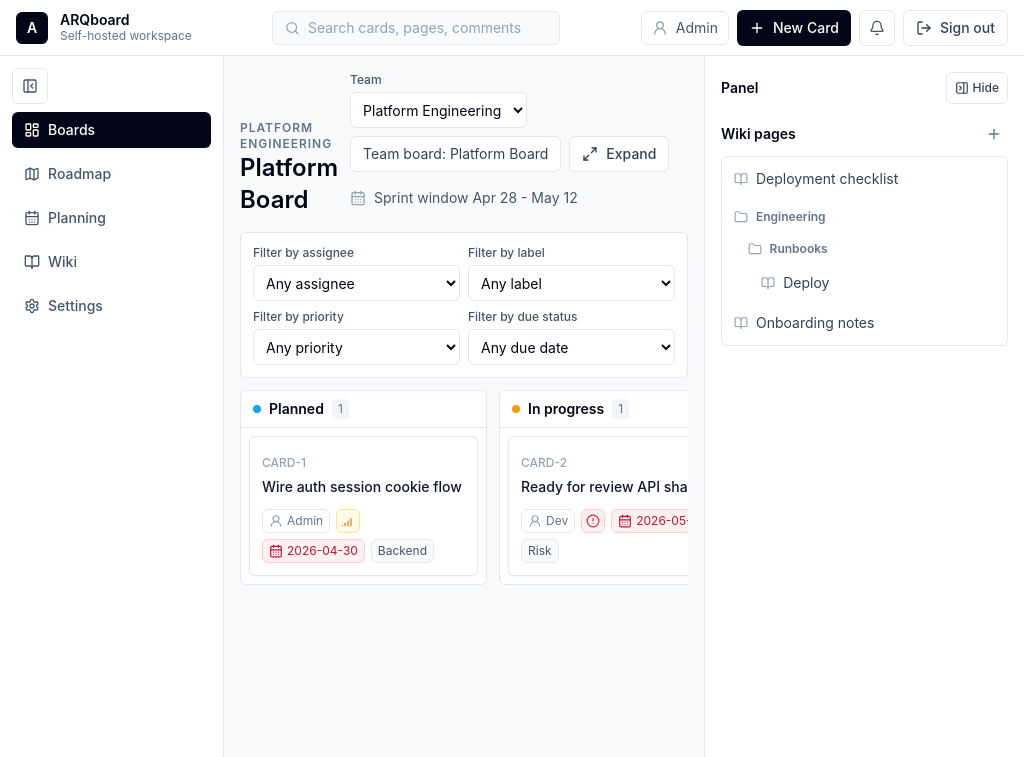
Scenario: App › updates the card detail panel when a card is selected
What coordinates should you click on to do the following:
click the button with aria-label "view card wire auth session cookie flow"
I would click on:
 (364, 506)
Its box is [250,437,477,575].
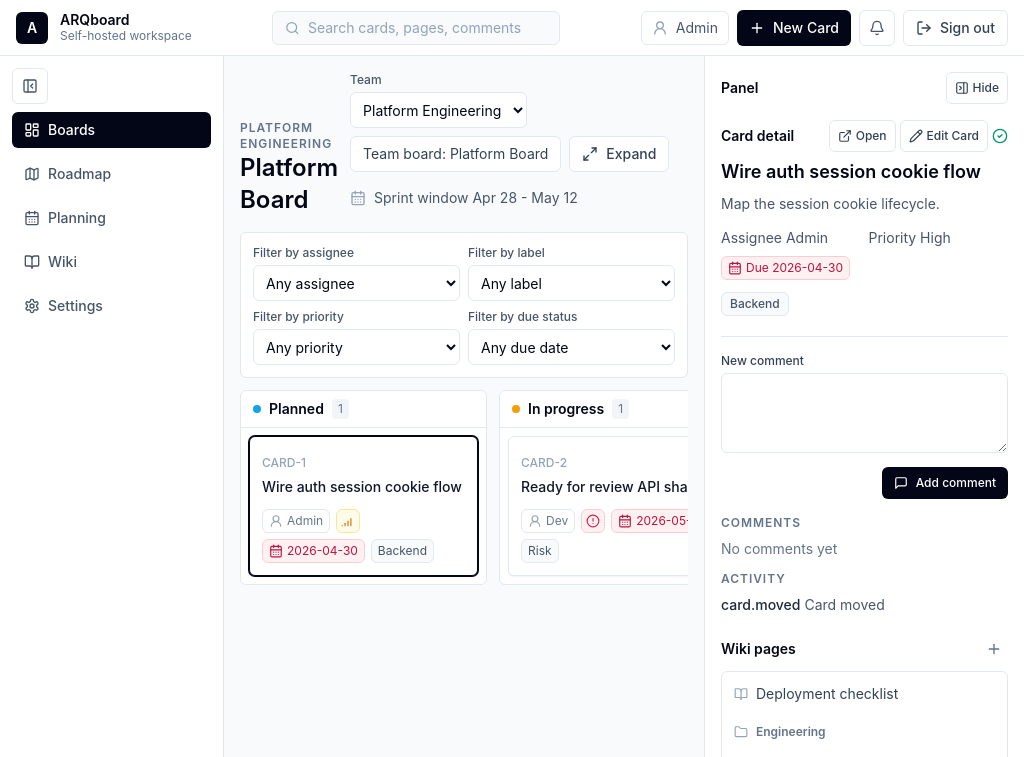
Result: the heading "Wire auth session cookie flow" is shown at [721,160,1008,184]
Result: the text "Assignee Admin" is shown at [721,229,828,246]
Result: the text "Backend" below "Due 2026-04-30" is shown at [730,296,780,311]
